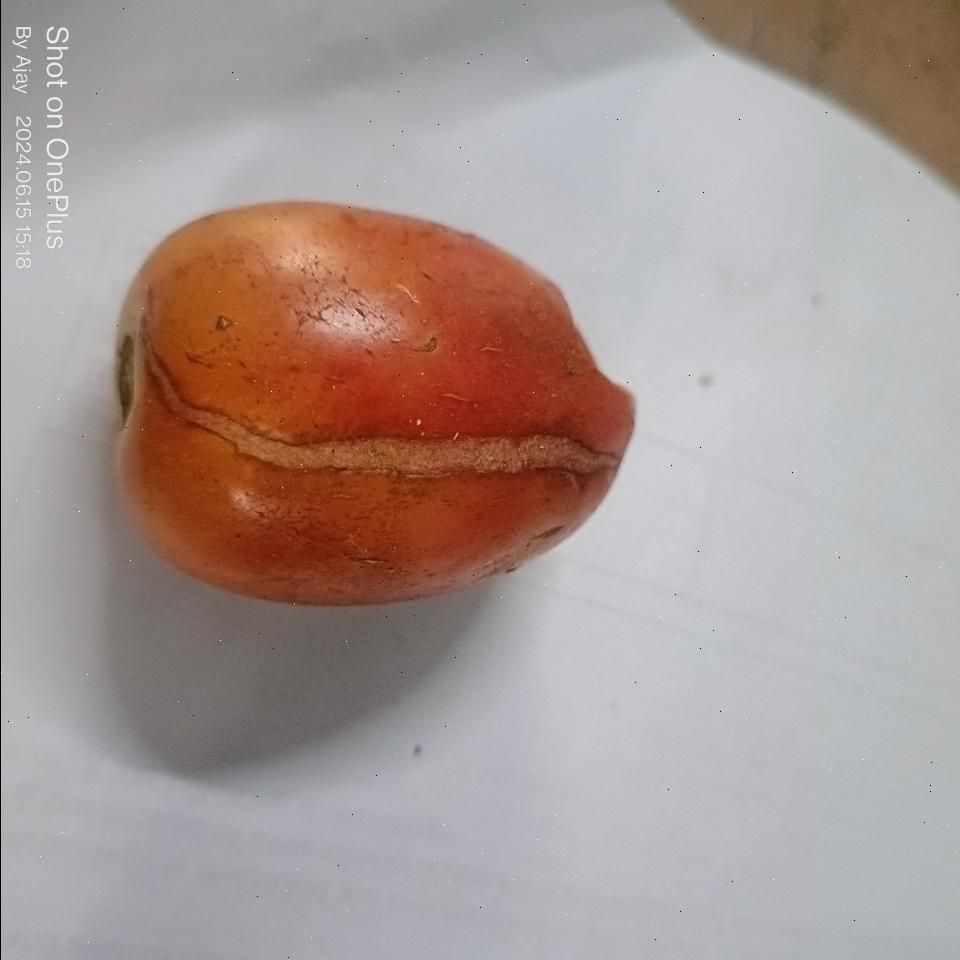Cracking: (147, 345, 615, 496)
